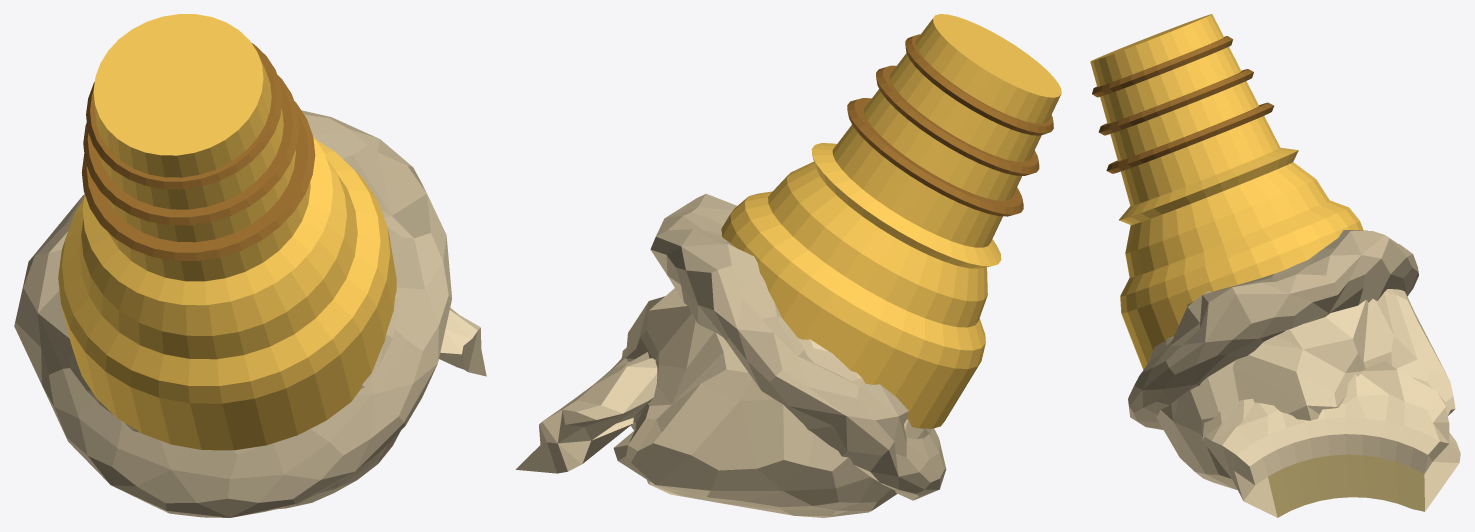
File: G477Proj1IceCream.fbx
3 renders of one model, left to right at view 1: azimuth 30°, elevation 25°; view 2: azimuth 150°, elevation 25°; view 3: azimuth 270°, elevation 25°, orthographic. The views are drawn at different scales.
Parts seen in each view (by area): view 1: Cylinder, Icosphere.001, Cylinder.001, Torus, Icosphere; view 2: Cylinder, Icosphere, Icosphere.001, Cylinder.001, Torus; view 3: Cylinder, Torus, Icosphere, Icosphere.001, Cylinder.001.
Boxes of the visible parts, x1,y1,x2,y2 form: Cylinder: (58,14,396,450); Icosphere.001: (14,110,451,517); Cylinder.001: (81,43,315,260); Torus: (439,308,486,376); Icosphere: (67,291,400,509); Cylinder: (721,14,1061,428); Icosphere: (613,288,931,517); Icosphere.001: (650,193,946,500); Cylinder.001: (847,34,1053,216); Torus: (515,348,657,473); Cylinder: (1090,14,1363,369); Torus: (1202,360,1460,517); Icosphere: (1145,289,1455,489); Icosphere.001: (1128,230,1418,429); Cylinder.001: (1092,36,1273,173).
Bounding box in the file's own units: 262 × 295 × 240.
